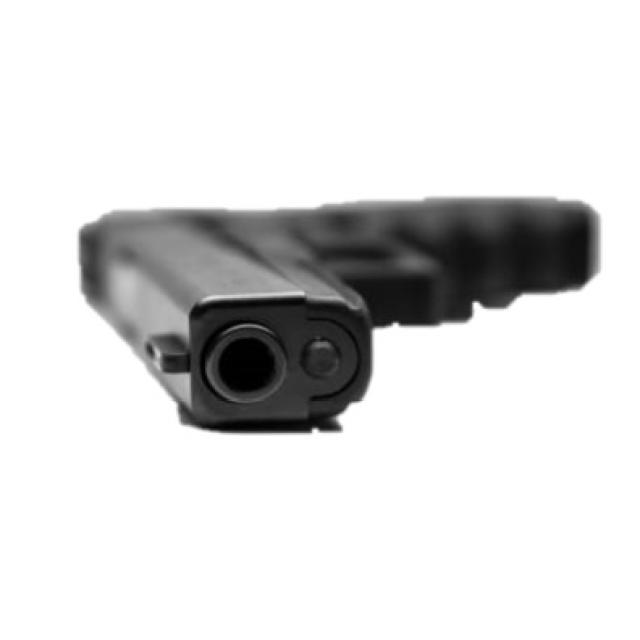pistol: (74, 190, 608, 447)
